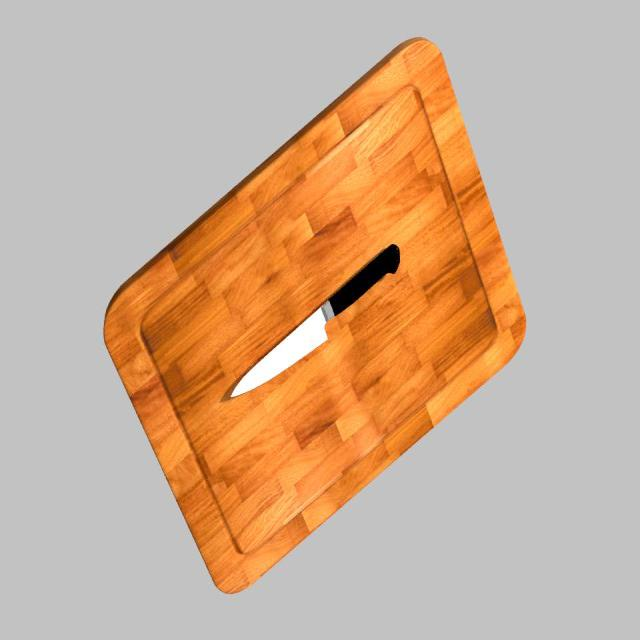knife: (328, 244, 400, 316)
